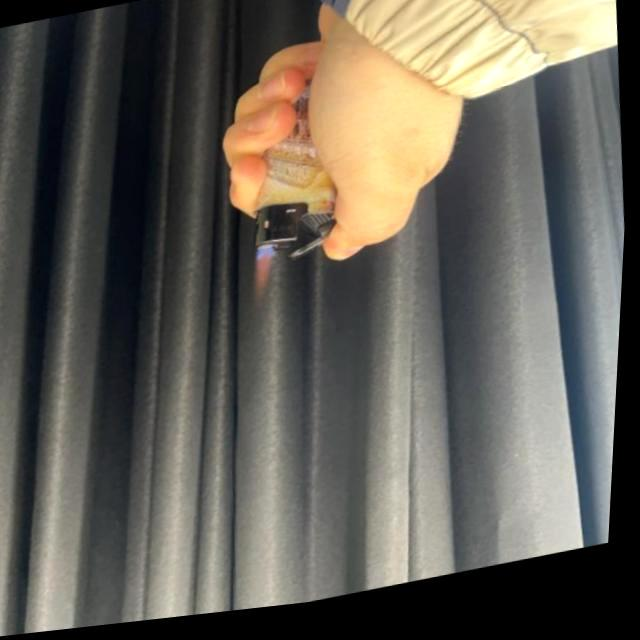fire: (250, 248, 284, 312)
